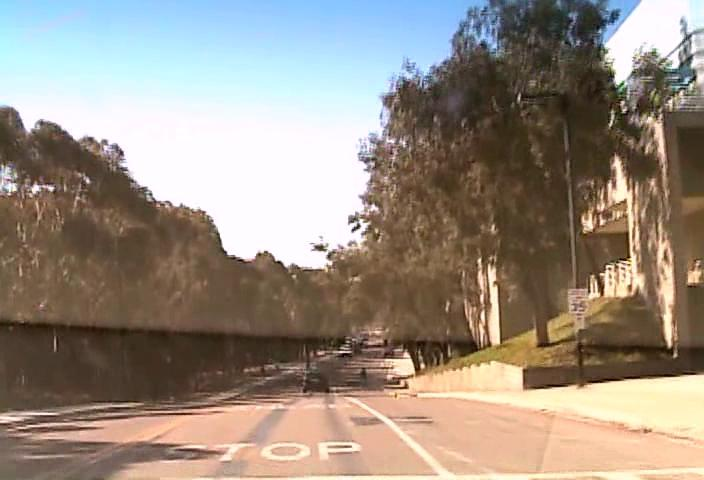speedLimit35: (566, 287, 588, 314)
